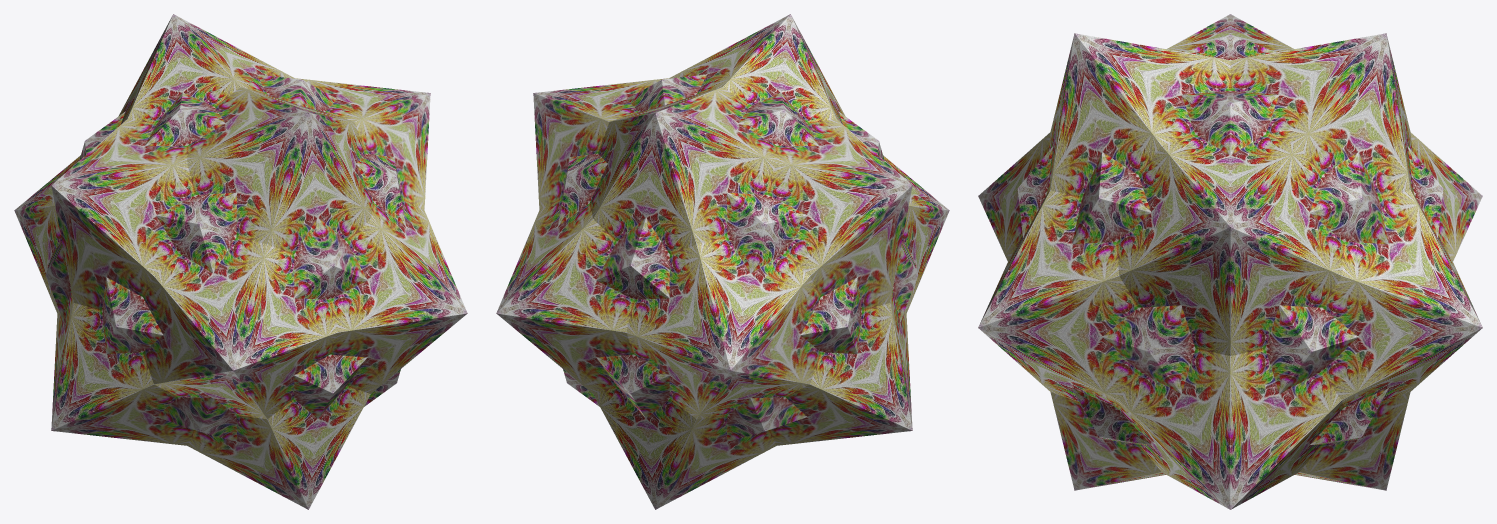
File: GreatDitrigonalDodecacronicHexecontahedron5.obj
The picture shows the model from 3 angles, left to right: view 1: azimuth 30°, elevation 25°; view 2: azimuth 150°, elevation 25°; view 3: azimuth 270°, elevation 25°; orthographic projection. The views are drawn at different scales.
Size of the model in its own units: 2.35 by 2.35 by 2.35.
Materials: 1 (1 with a texture image).
